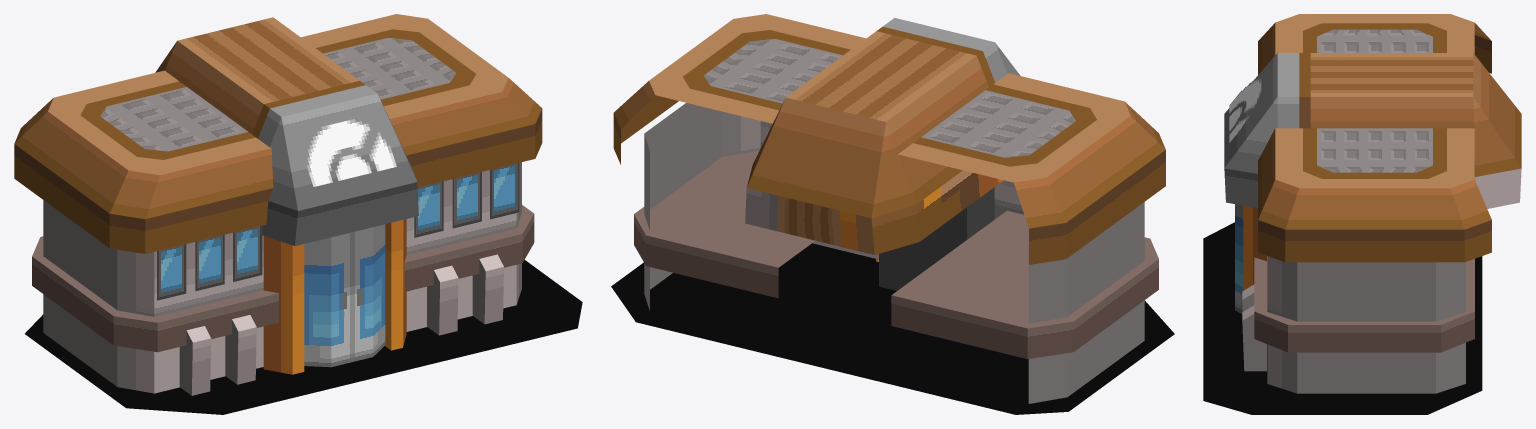
The model's file is gym.glb.
3 renders of one model, left to right at view 1: azimuth 30°, elevation 25°; view 2: azimuth 150°, elevation 25°; view 3: azimuth 270°, elevation 25°, orthographic. The views are drawn at different scales.
Visible parts, largest first — view 1: gym; view 2: gym; view 3: gym.
Boxes of the visible parts, <box> form: gym: <box>14,14,582,414</box>; gym: <box>611,14,1174,414</box>; gym: <box>1203,14,1521,414</box>.
Size of the model in its own units: 7.34 by 3.78 by 4.74.
8 materials, 8 textured.
